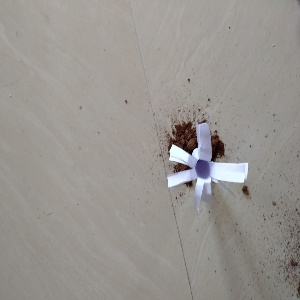weed: (165, 123, 245, 203)
